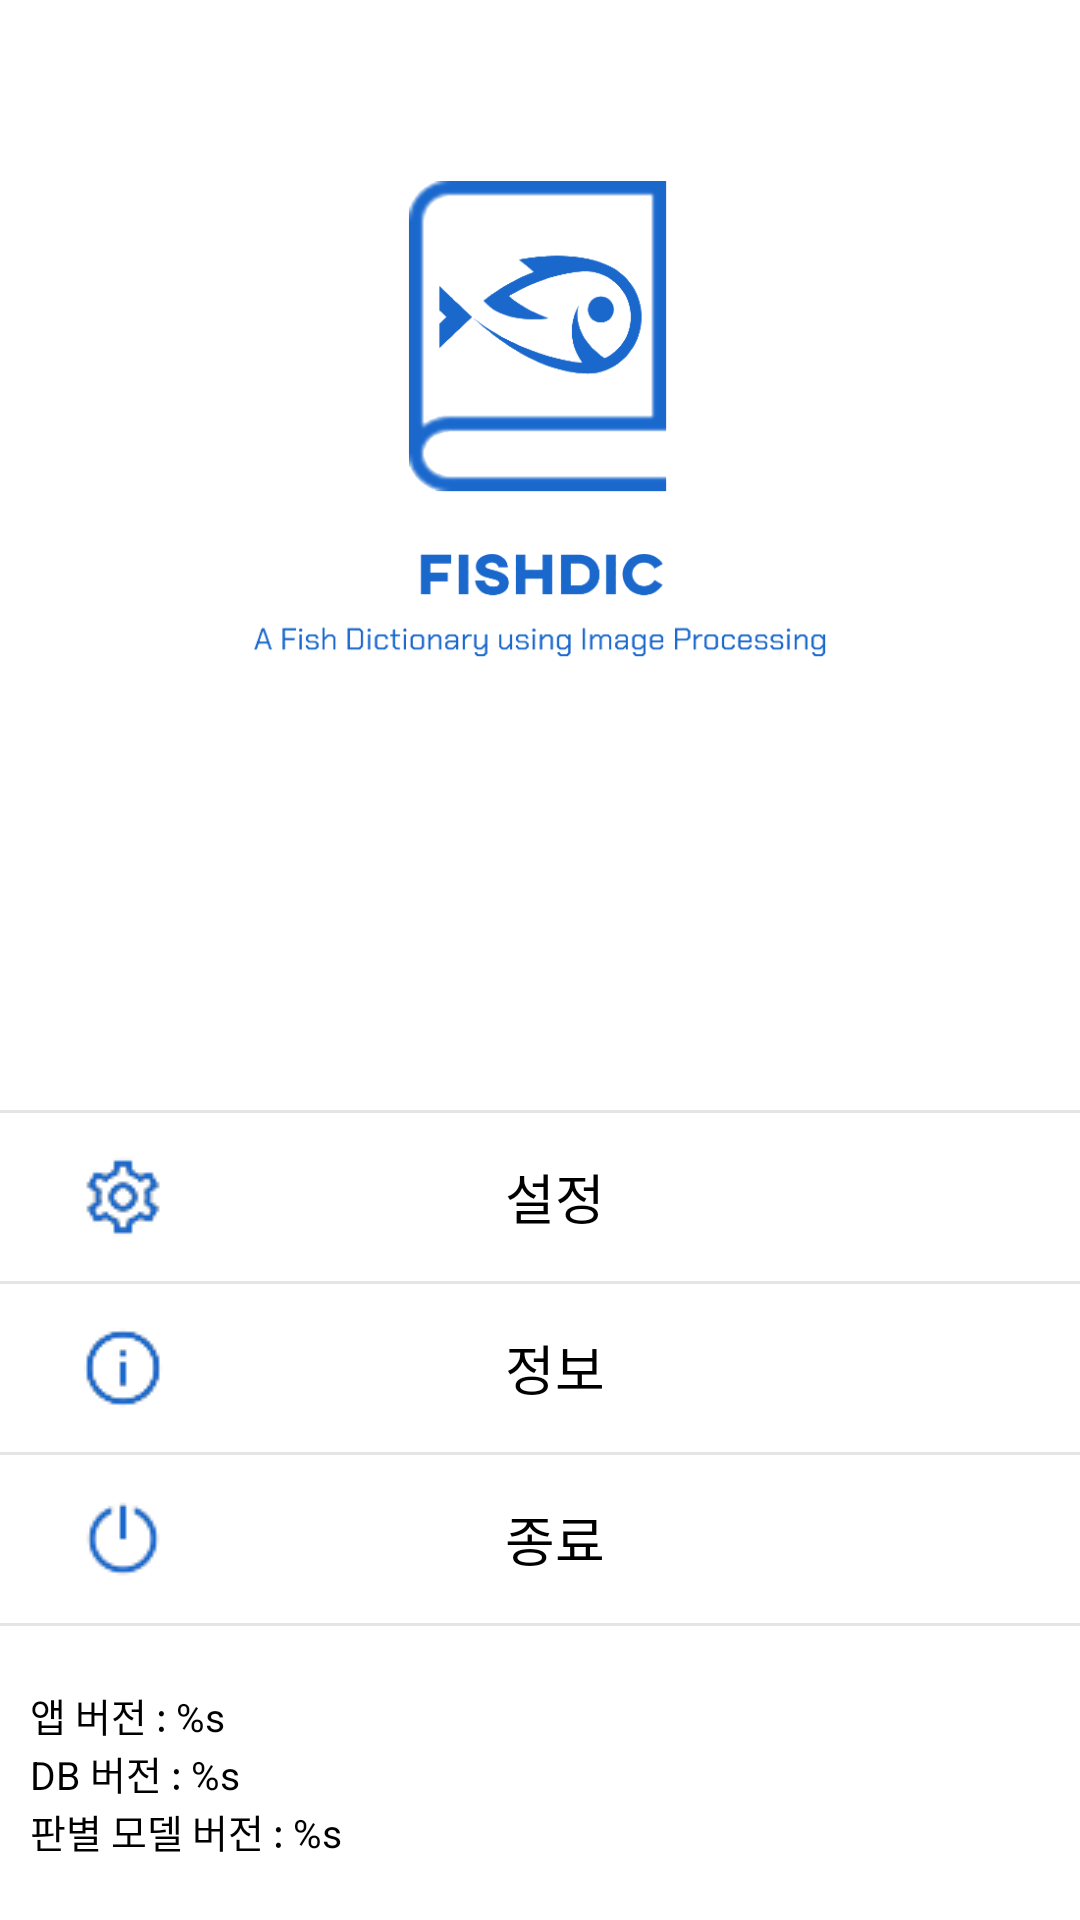

Locate icon controls on the screen. Image size 1080x1920, boxes as (x1, y1, x2, y2).
exit: (88, 1504, 158, 1574)
info: (86, 1331, 160, 1405)
settings: (86, 1160, 160, 1234)
